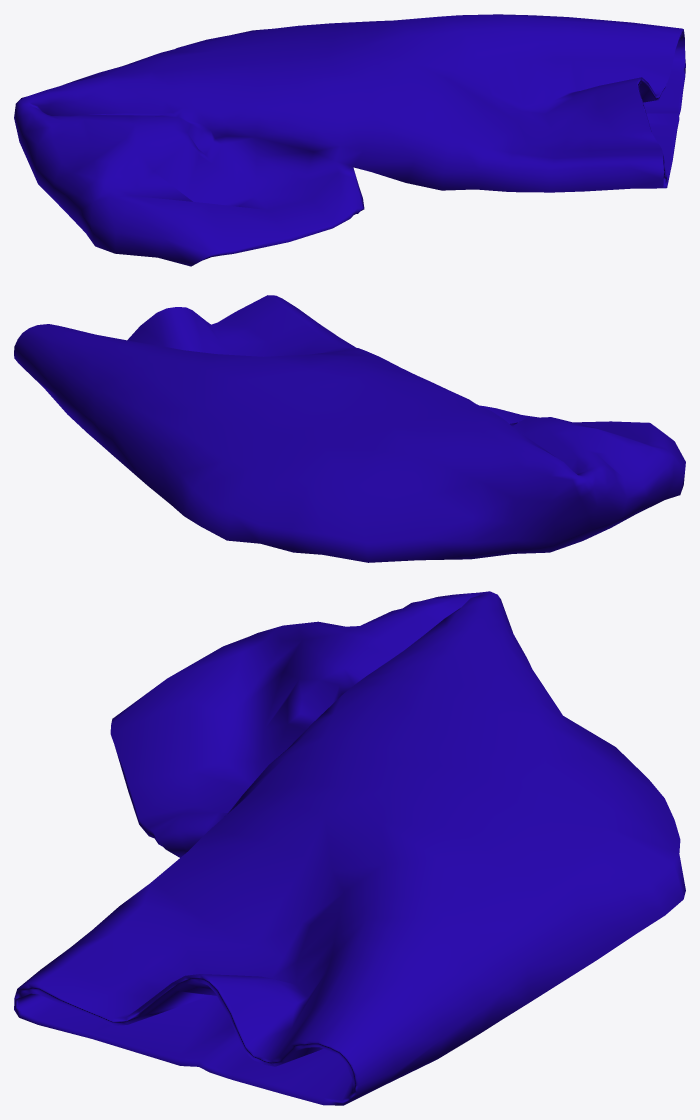
File: Cloth_01.FBX
The picture shows the model from 3 angles, top to bottom: view 1: azimuth 30°, elevation 25°; view 2: azimuth 150°, elevation 25°; view 3: azimuth 270°, elevation 25°; orthographic projection. The views are drawn at different scales.
Visible parts, largest first — view 1: SM_ClothA_01_LOD0; view 2: SM_ClothA_01_LOD0; view 3: SM_ClothA_01_LOD0.
Boxes of the visible parts, bbox=[...] form: SM_ClothA_01_LOD0: bbox=[14, 14, 685, 266]; SM_ClothA_01_LOD0: bbox=[14, 295, 685, 562]; SM_ClothA_01_LOD0: bbox=[14, 591, 685, 1105].
Size of the model in its own units: 146 by 21.82 by 97.62.
